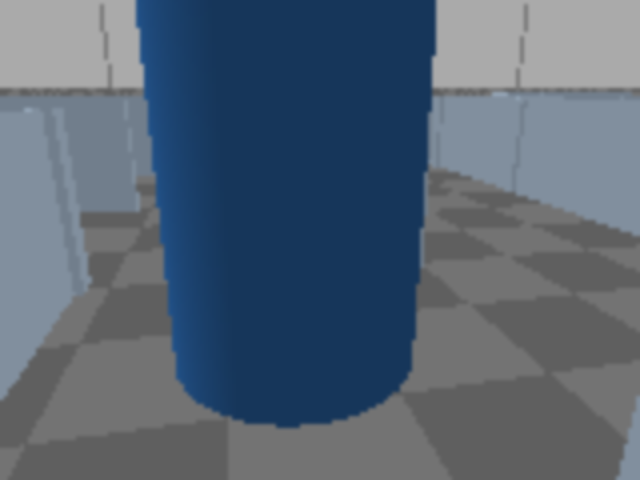person: (0, 0, 540, 424)
